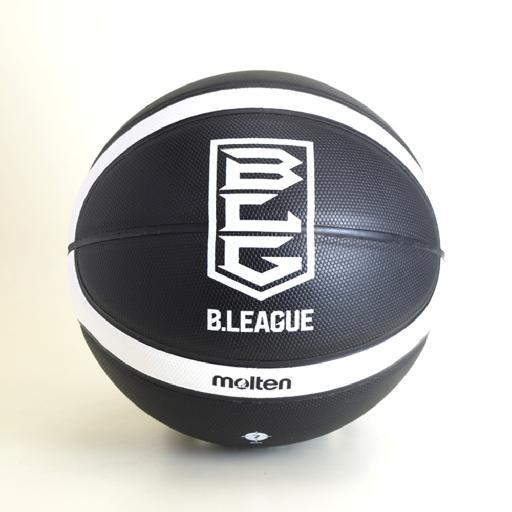ball: (68, 70, 444, 447)
